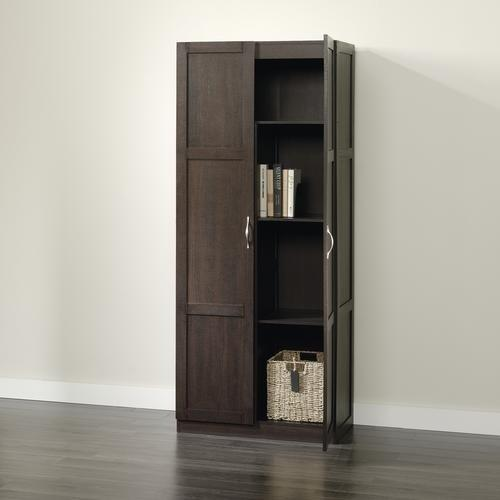cabinet_door: (176, 42, 255, 425), (323, 36, 337, 445)
handle: (321, 225, 338, 265), (244, 213, 253, 251)
